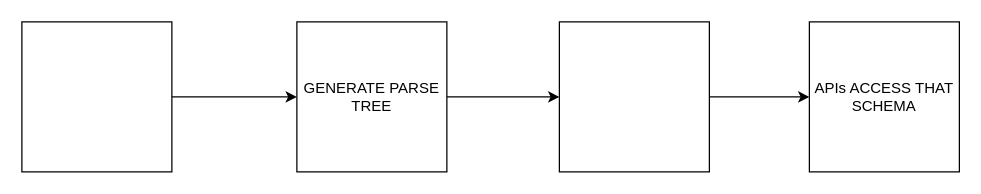
The diagram is 981 pixels wide and 194 high, and some of its shapes have lost their labels. The box of each missing label's shape, as (x1, y1, x2, y2) in pixels:
GENERATE SCHEMA OUT OF THAT TREE: (558, 21, 709, 172)
HTML TEXT CONNSTITUTION: (21, 21, 172, 172)
